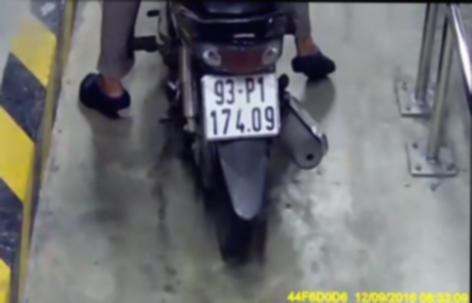License_Plate: (196, 68, 285, 143)
